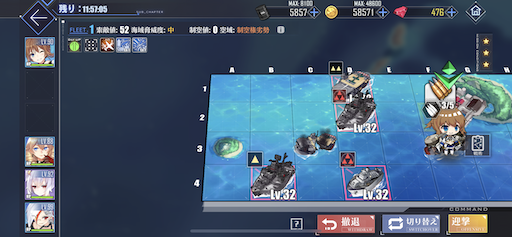lv1: (332, 90, 379, 132)
lv3: (340, 151, 389, 198), (332, 90, 379, 132)
